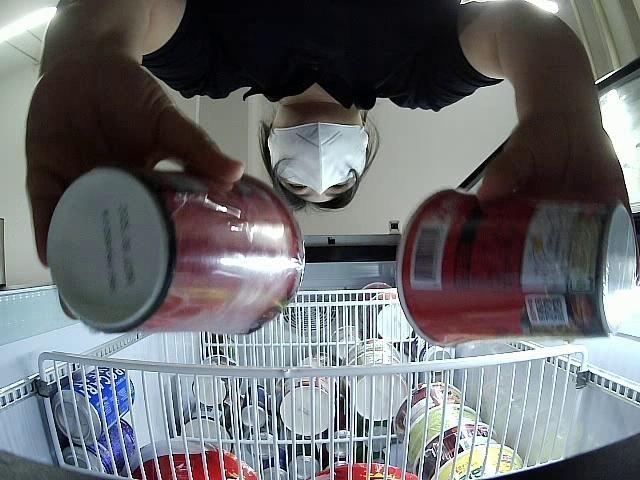02_shinRamen_S: (44, 164, 305, 334), (396, 187, 636, 348)
